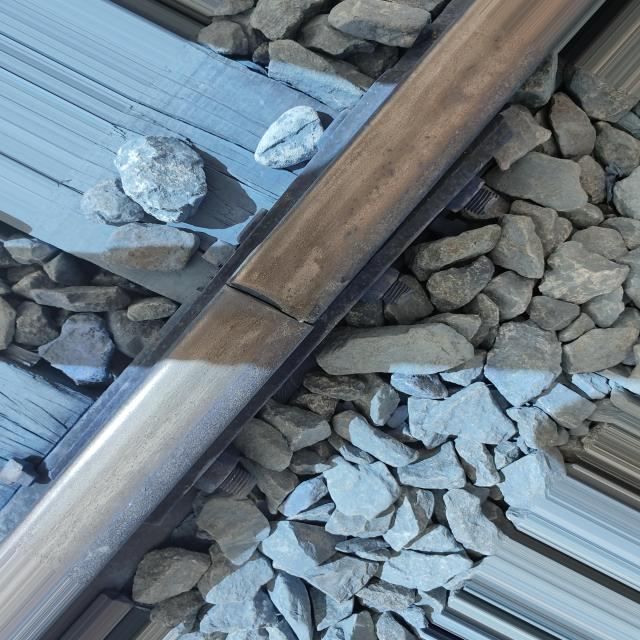crack: (199, 262, 332, 343)
